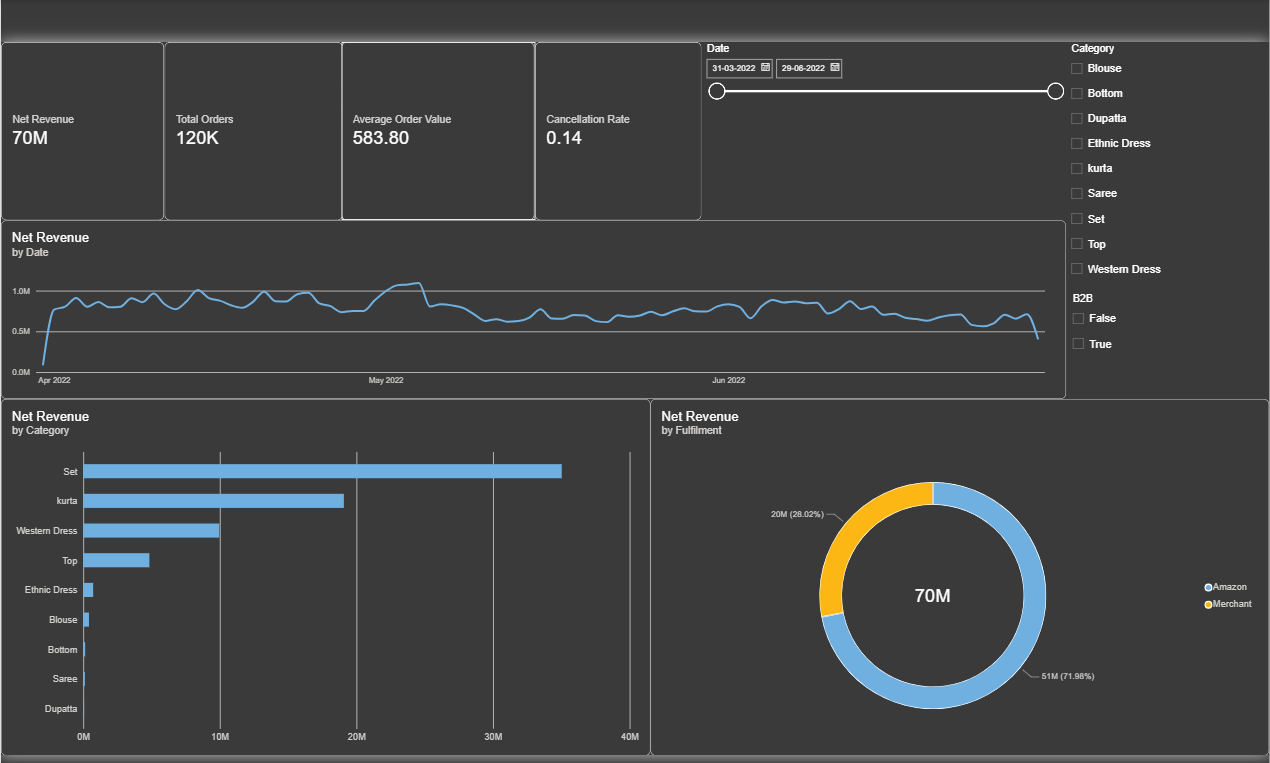

What the dashboard file says about the page in this screenshot:
{"tool":"powerbi","page":{"name":"Executive Overview","canvas":[1920,1080],"ordinal":0},"visuals":[{"type":"cardVisual","fields":{"Data":["_Measures.Net Revenue"]},"box":[0,0,247.5,270],"z":0},{"type":"cardVisual","fields":{"Data":["_Measures.Total Orders"]},"box":[247.5,0,270,270],"z":1000},{"type":"cardVisual","fields":{"Data":["_Measures.Average Order Value"]},"box":[515,0,292.5,270],"z":2000},{"type":"cardVisual","fields":{"Data":["_Measures.Cancellation Rate"]},"box":[807.5,0,252.5,270],"z":3000},{"type":"lineChart","fields":{"Category":["Dim_Date.Date"],"Y":["_Measures.Net Revenue"]},"box":[0,270,1612.5,270],"z":4000},{"type":"clusteredBarChart","fields":{"Category":["Amazon_Sales_Fact_Cleaned (1).Category"],"Y":["_Measures.Net Revenue"]},"box":[0,540,983.3,540],"z":5000},{"type":"donutChart","fields":{"Category":["Amazon_Sales_Fact_Cleaned (1).Fulfilment"],"Y":["_Measures.Net Revenue"]},"box":[983.3,540,936.7,540],"z":6000},{"type":"slicer","fields":{"Values":["Dim_Date.Date"]},"box":[1060,0,552.5,270],"z":7000},{"type":"slicer","fields":{"Values":["Amazon_Sales_Fact_Cleaned (1).Category"]},"box":[1613.3,0,306.7,380],"z":8000},{"type":"slicer","fields":{"Values":["Amazon_Sales_Fact_Cleaned (1).B2B"]},"box":[1615,380,305,160],"z":9000}]}

Visuals, with their boxes on the page's 1920x1080 design canvas (x1, y1, x2, y2). These are canvas units, not pixel positions in the 1270x763 screenshot, which may show the page scaled, cropped or inside an application window:
cardVisual - _Measures.Net Revenue: 0 0 248 270
cardVisual - _Measures.Total Orders: 248 0 518 270
cardVisual - _Measures.Average Order Value: 515 0 808 270
cardVisual - _Measures.Cancellation Rate: 808 0 1060 270
lineChart - Dim_Date.Date x _Measures.Net Revenue: 0 270 1612 540
clusteredBarChart - Amazon_Sales_Fact_Cleaned (1).Category x _Measures.Net Revenue: 0 540 983 1080
donutChart - Amazon_Sales_Fact_Cleaned (1).Fulfilment x _Measures.Net Revenue: 983 540 1920 1080
slicer - Dim_Date.Date: 1060 0 1612 270
slicer - Amazon_Sales_Fact_Cleaned (1).Category: 1613 0 1920 380
slicer - Amazon_Sales_Fact_Cleaned (1).B2B: 1615 380 1920 540
